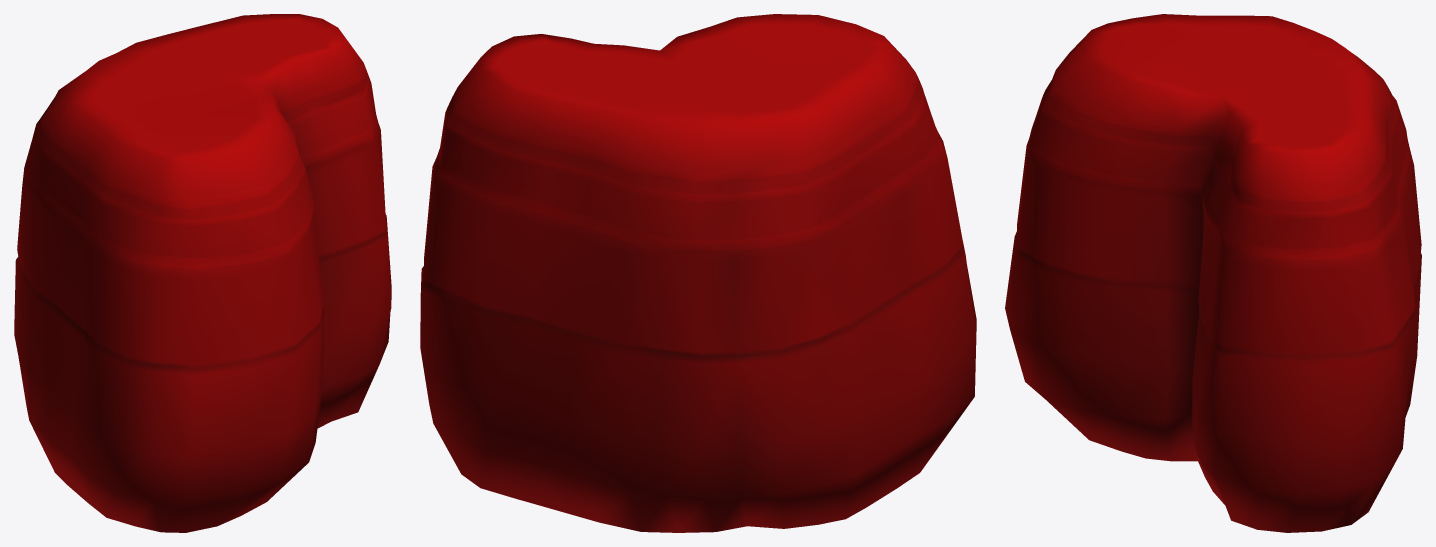
The model's file is geology-landforms-sandstonemesalarge_v2.fbx.
The picture shows the model from 3 angles, left to right: view 1: azimuth 30°, elevation 25°; view 2: azimuth 150°, elevation 25°; view 3: azimuth 270°, elevation 25°; orthographic projection. The views are drawn at different scales.
Visible parts, largest first — view 1: SandStoneMesaLarge_v2; view 2: SandStoneMesaLarge_v2; view 3: SandStoneMesaLarge_v2.
Part boxes in pixels (left/top/right/bottom): SandStoneMesaLarge_v2: left=14, top=14, right=391, bottom=532; SandStoneMesaLarge_v2: left=420, top=14, right=976, bottom=532; SandStoneMesaLarge_v2: left=1005, top=14, right=1421, bottom=532.
Bounding box in the file's own units: 41.04 × 38.1 × 38.59.
